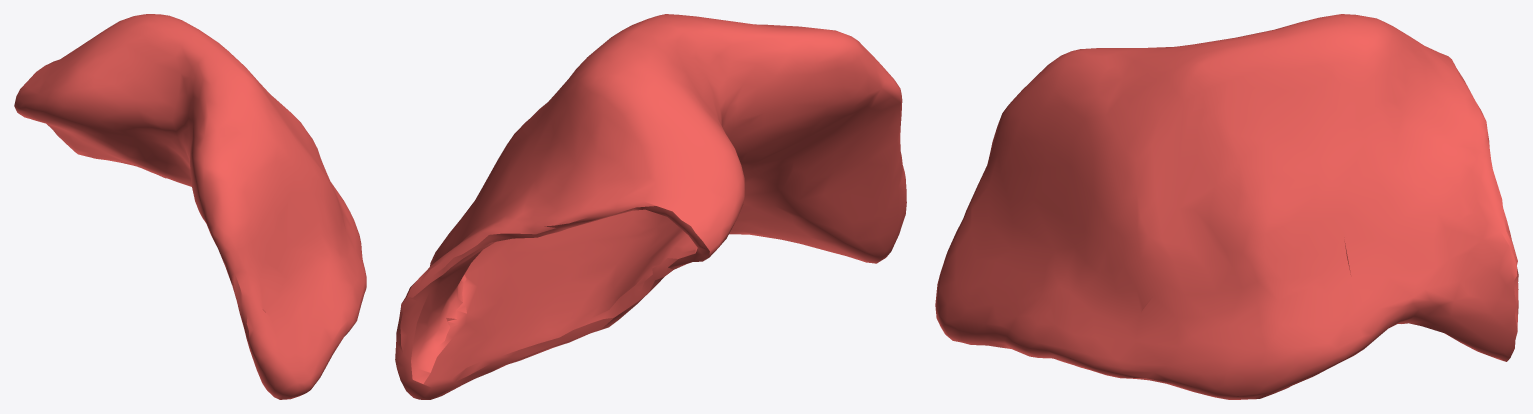
File: aurikel_kiri.glb
3 views of the same model, side by side, from view 1: azimuth 30°, elevation 25°; view 2: azimuth 150°, elevation 25°; view 3: azimuth 270°, elevation 25° (orthographic). The views are drawn at different scales.
Parts seen in each view (by area): view 1: MM459_BP51840_FMA9547_Wall of left auricle; view 2: MM459_BP51840_FMA9547_Wall of left auricle; view 3: MM459_BP51840_FMA9547_Wall of left auricle.
Boxes of the visible parts, box(x1,y1,x2,y2) form: MM459_BP51840_FMA9547_Wall of left auricle: box(14, 14, 366, 399); MM459_BP51840_FMA9547_Wall of left auricle: box(395, 14, 906, 399); MM459_BP51840_FMA9547_Wall of left auricle: box(935, 14, 1518, 399).
Size of the model in its own units: 0.0347 by 0.0331 by 0.0538.
